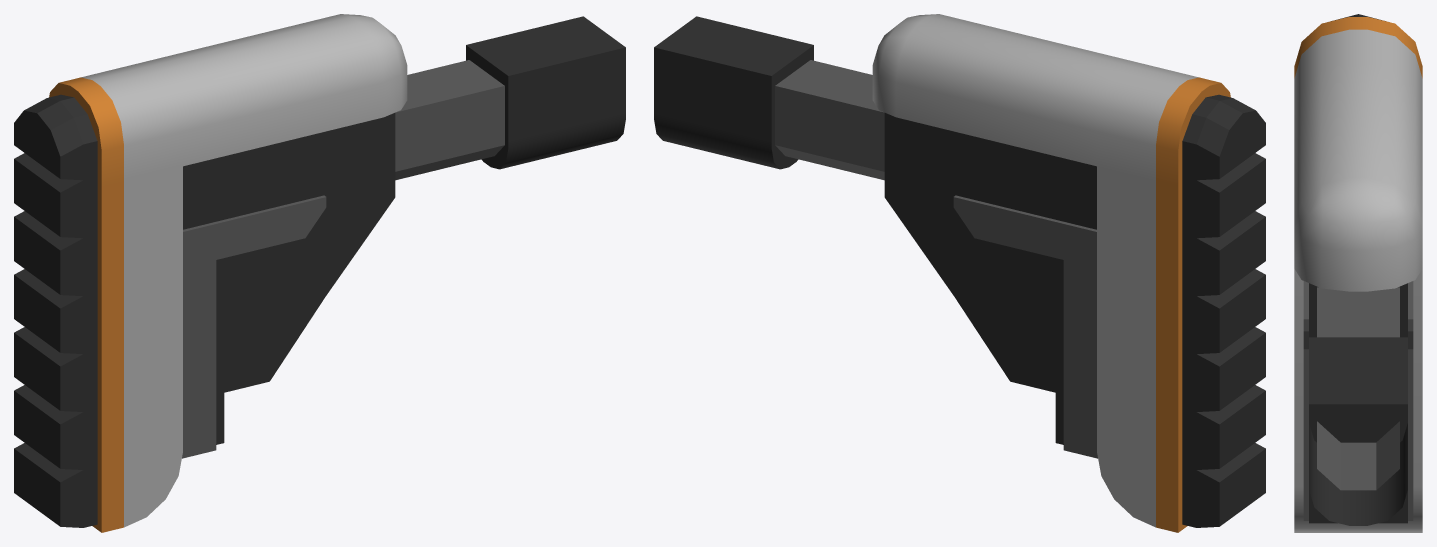
File: Stock_SMG_1.gltf
The picture shows the model from 3 angles, left to right: view 1: azimuth 30°, elevation 25°; view 2: azimuth 150°, elevation 25°; view 3: azimuth 270°, elevation 25°; orthographic projection. The views are drawn at different scales.
Visible parts, largest first — view 1: Stock_SMG_1; view 2: Stock_SMG_1; view 3: Stock_SMG_1.
Part boxes in pixels (x1=…): Stock_SMG_1: x1=14, y1=14, x2=625, y2=532; Stock_SMG_1: x1=654, y1=14, x2=1265, y2=532; Stock_SMG_1: x1=1294, y1=14, x2=1422, y2=532.
Bounding box in the file's own units: 0.5782 × 0.413 × 0.097.
